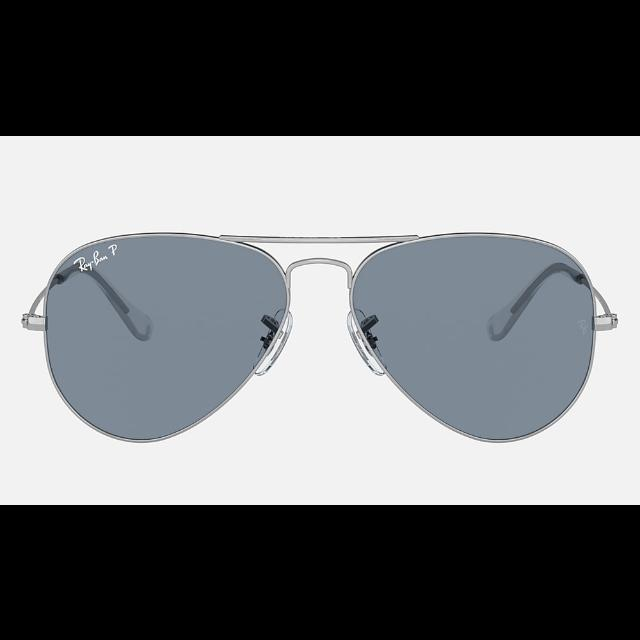Sunglasses: (22, 228, 604, 438)
